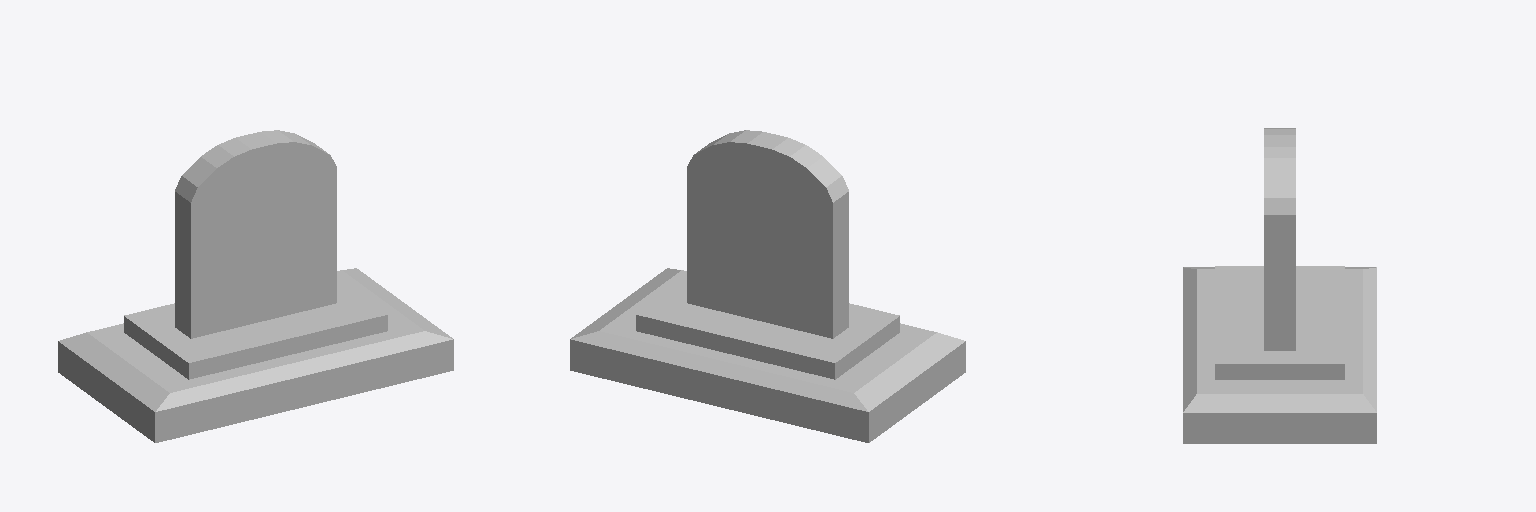
File: tomb1.obj
The picture shows the model from 3 angles: view 1: azimuth 30°, elevation 25°; view 2: azimuth 150°, elevation 25°; view 3: azimuth 270°, elevation 25°; orthographic projection.
Parts seen in each view (by area): view 1: Cube.009_Cube.018; view 2: Cube.009_Cube.018; view 3: Cube.009_Cube.018.
Boxes of the visible parts, <box> form: Cube.009_Cube.018: <box>58,130,453,442</box>; Cube.009_Cube.018: <box>570,130,965,442</box>; Cube.009_Cube.018: <box>1183,128,1376,443</box>.
Bounding box in the file's own units: 1.79 × 1.32 × 1.01.